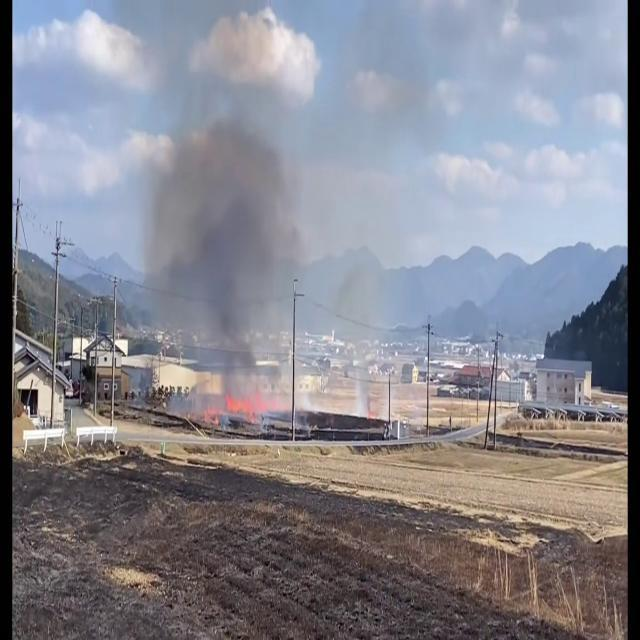Smoke: (131, 74, 293, 411)
